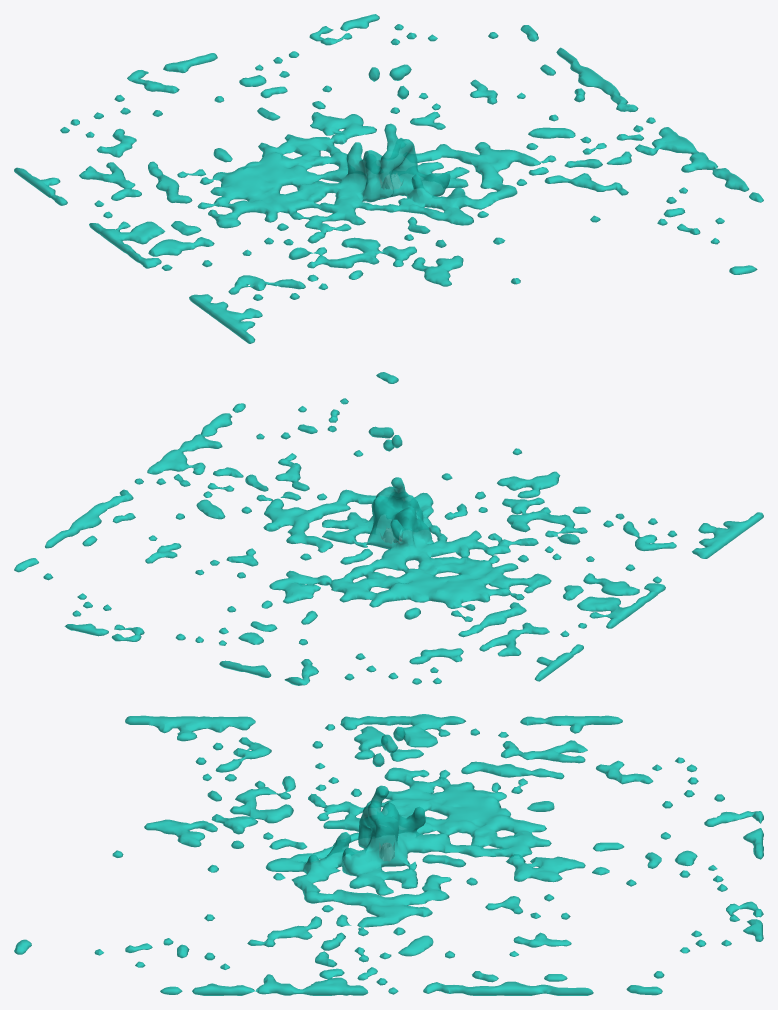
3 renders of one model, top to bottom at view 1: azimuth 30°, elevation 25°; view 2: azimuth 150°, elevation 25°; view 3: azimuth 270°, elevation 25°, orthographic. The views are drawn at different scales.
Visible parts, largest first — view 1: Liquid_Domain; view 2: Liquid_Domain; view 3: Liquid_Domain.
Boxes of the visible parts, x1=… form: Liquid_Domain: x1=14, y1=14, x2=763, y2=343; Liquid_Domain: x1=14, y1=372, x2=763, y2=685; Liquid_Domain: x1=14, y1=714, x2=763, y2=995.
Bounding box in the file's own units: 12.43 × 2.69 × 14.34.
